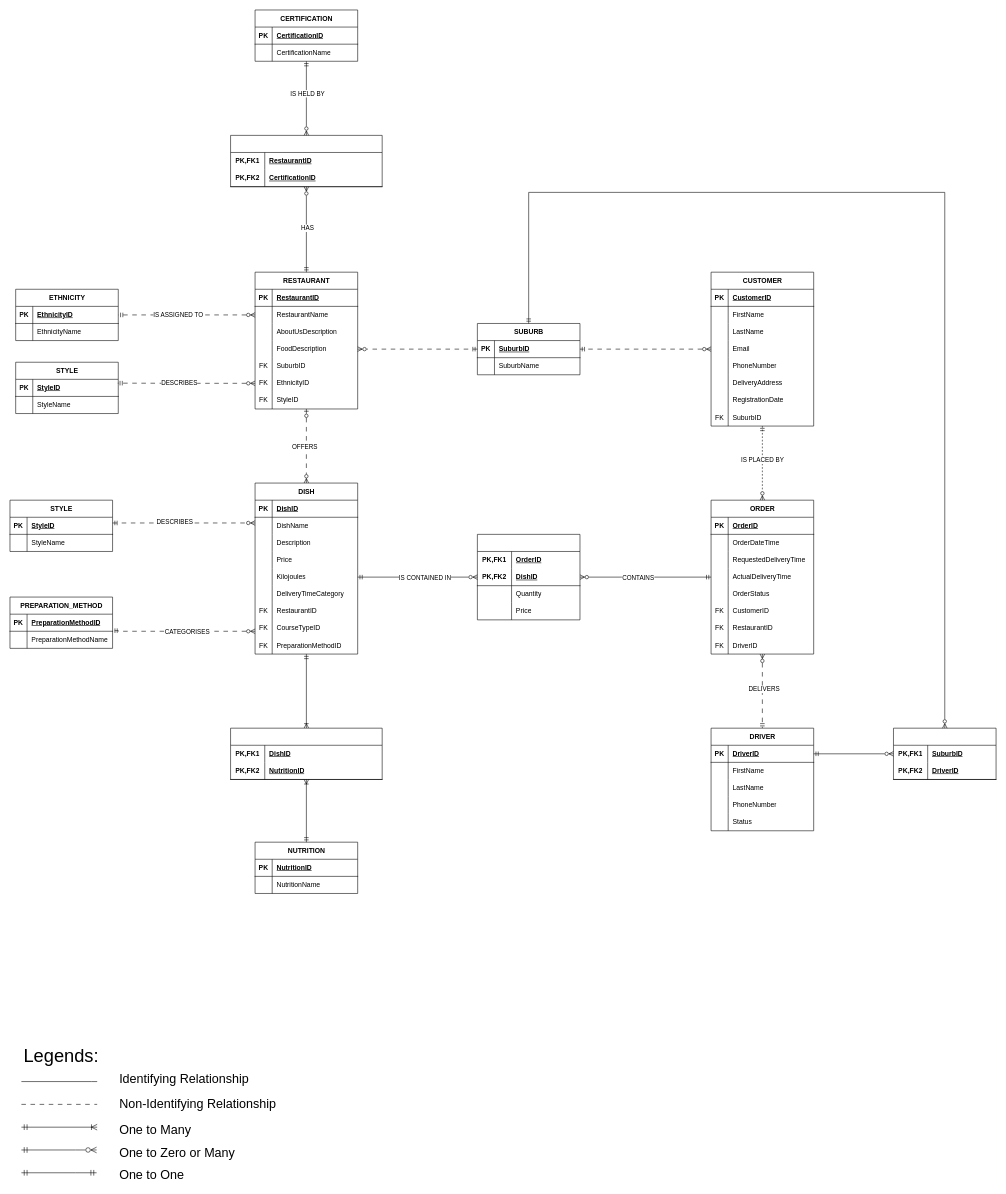
This 1006x1194 diagram has some shape labels left out. Here are the shapes that lost their labels. From the top down, the box of each, then its label:
(230, 135, 382, 187): RESTAURANT_CERTIFICATION
(477, 534, 580, 620): ORDER_ITEM
(230, 728, 382, 779): DISH_NUTRITION
(893, 728, 996, 779): DRIVER_SUBURB
